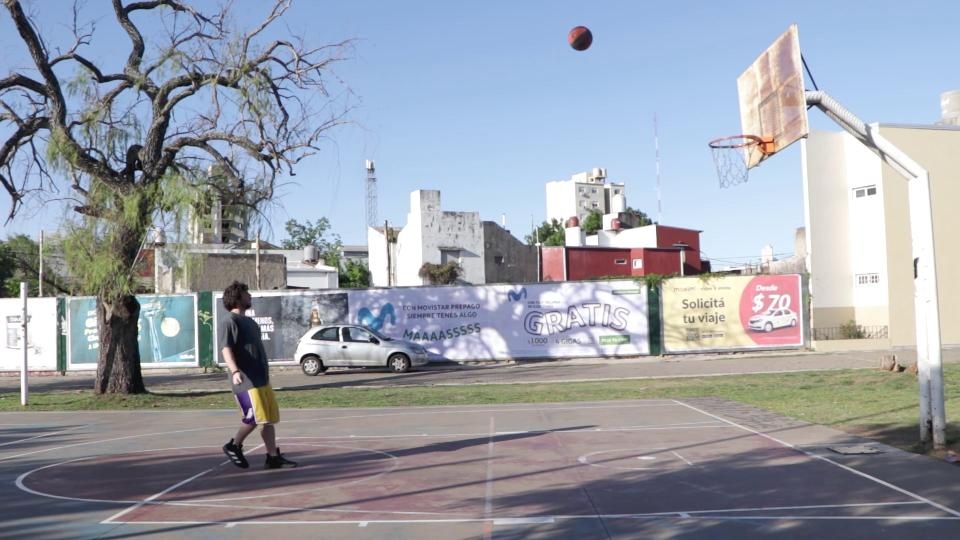hoop: (708, 134, 763, 150)
